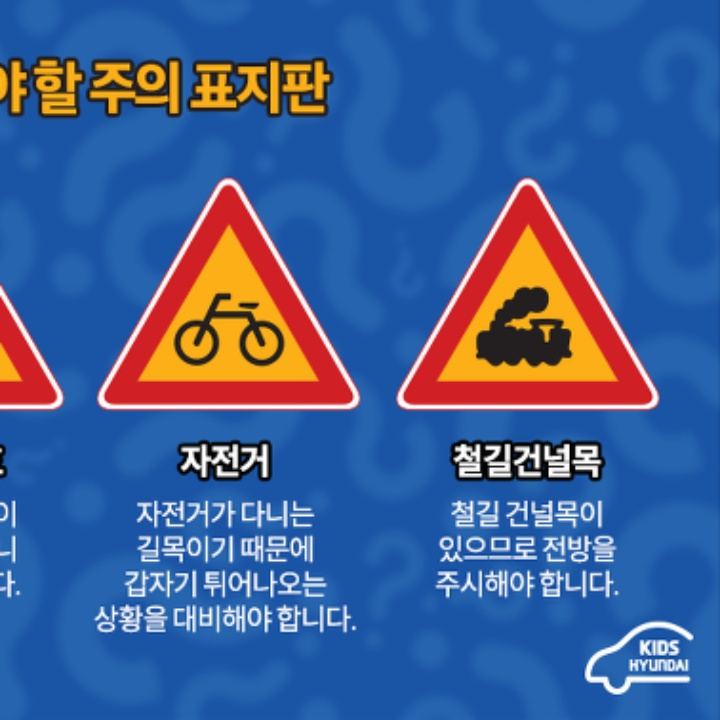bicycle: (103, 179, 353, 402)
